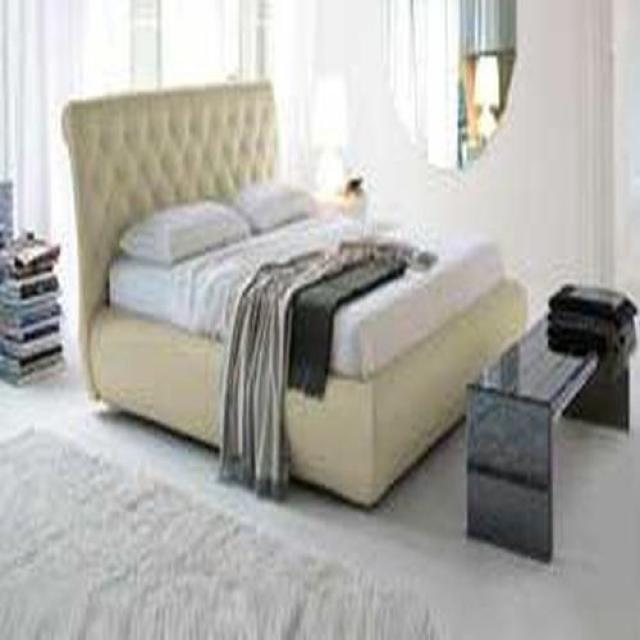bed: (60, 81, 527, 511)
